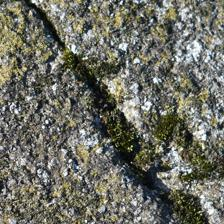Crack: (18, 4, 140, 178)
